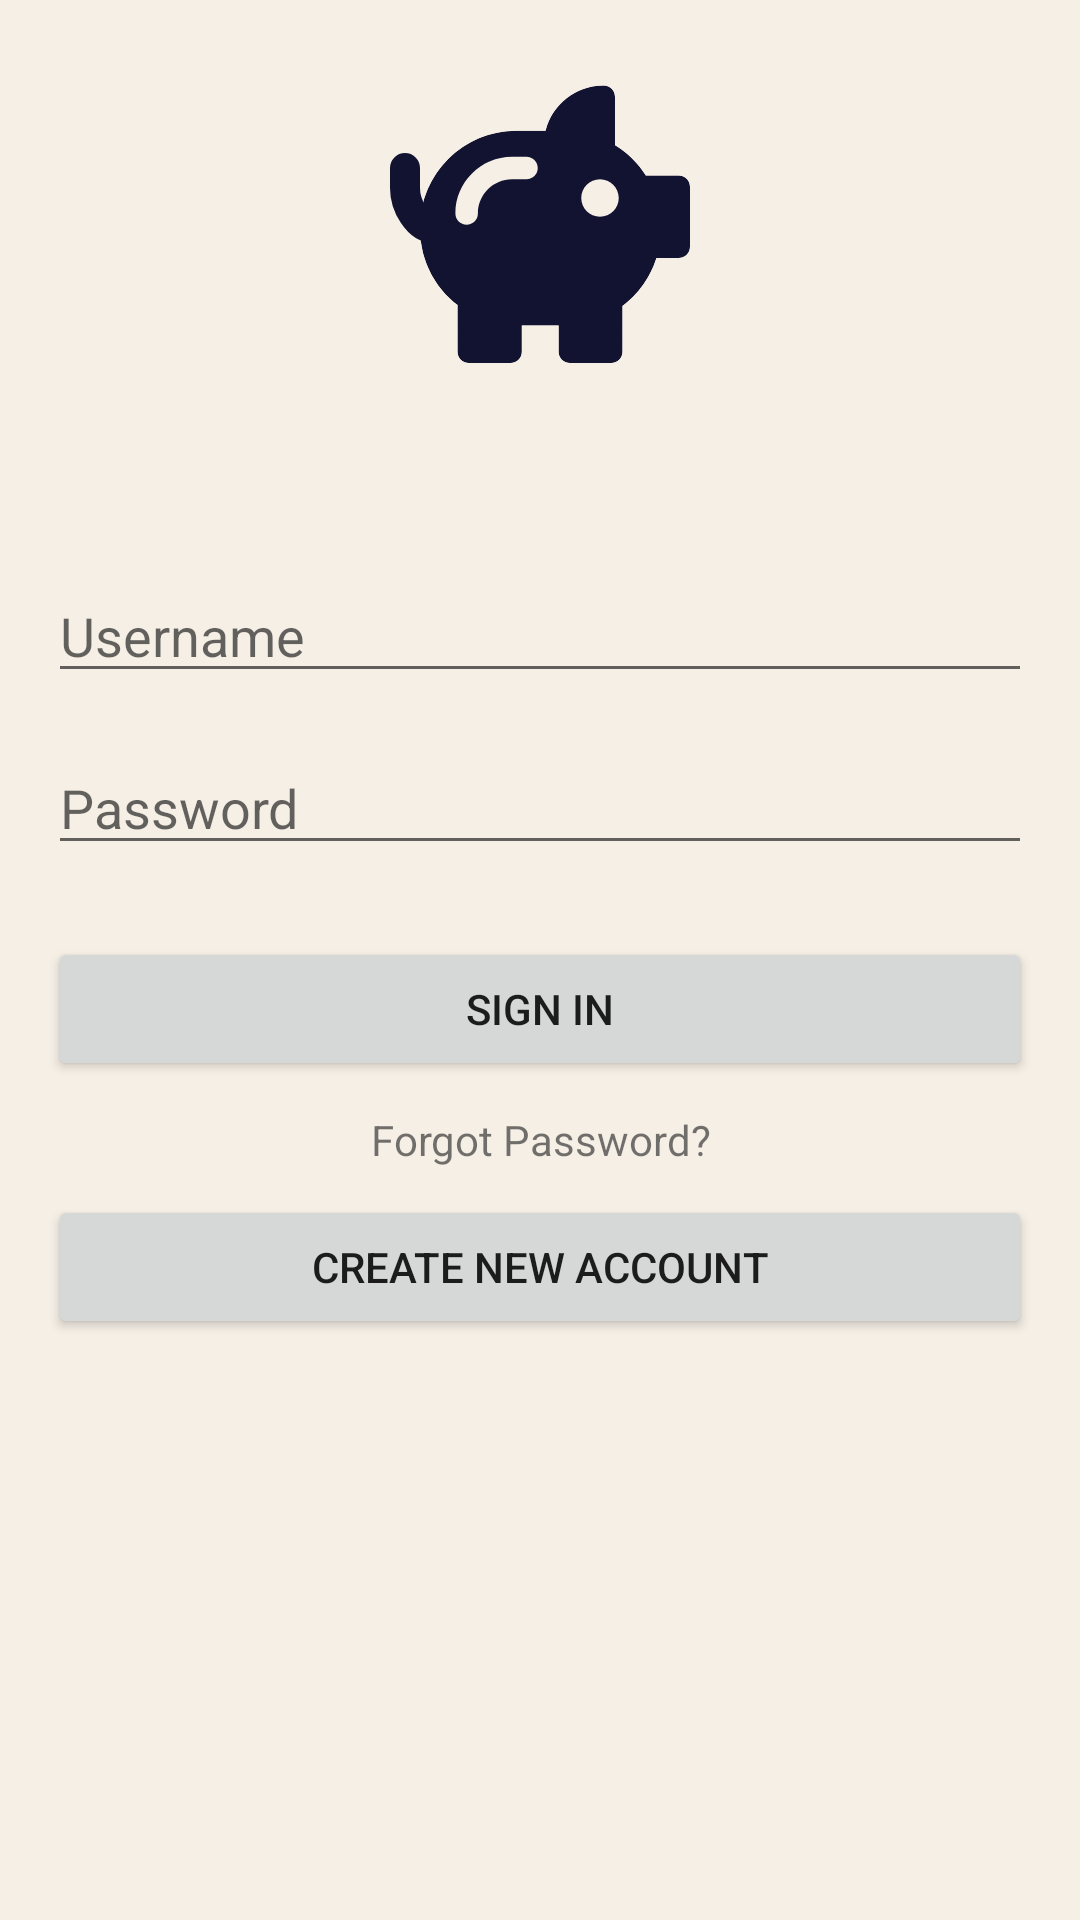

Icon bounding boxes for this 1080x1920 phone screenshot, format (x1, y1, x2, y2):
budgets: (390, 85, 690, 363)
